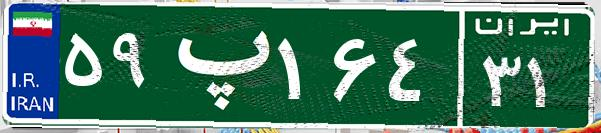1: (273, 28, 330, 110), (525, 38, 570, 115)
3: (475, 38, 525, 113)
4: (385, 28, 445, 110)
5: (57, 26, 110, 107)
6: (330, 28, 385, 110)
9: (110, 28, 158, 105)
پ: (158, 15, 273, 115)
